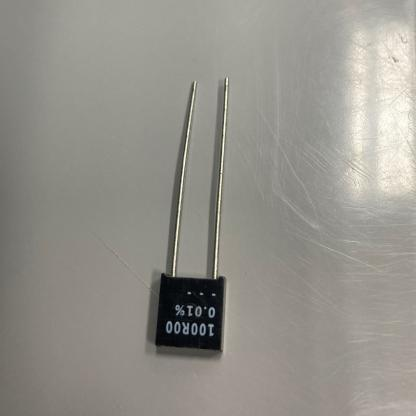SP0000007: (115, 50, 315, 388)
